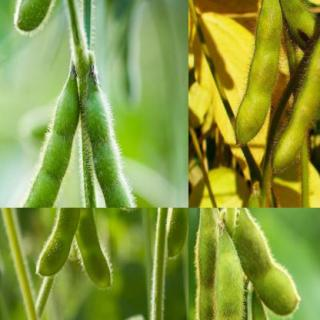soya: (5, 74, 80, 207), (270, 23, 319, 174), (86, 74, 140, 207), (236, 208, 302, 314), (234, 0, 281, 148), (195, 237, 243, 319), (75, 208, 114, 289), (36, 208, 83, 275), (191, 208, 217, 319), (13, 0, 62, 35), (279, 0, 317, 45), (165, 208, 188, 262)
